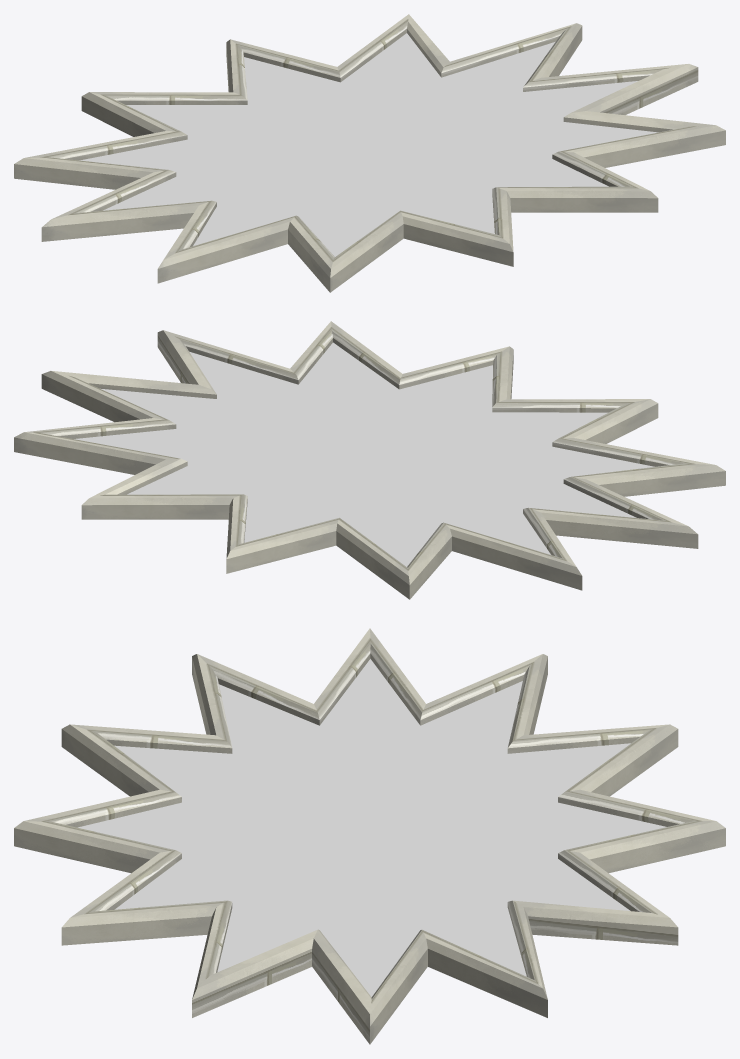
File: Billboard_B.fbx
The picture shows the model from 3 angles, top to bottom: view 1: azimuth 30°, elevation 25°; view 2: azimuth 150°, elevation 25°; view 3: azimuth 270°, elevation 25°; orthographic projection. The views are drawn at different scales.
Visible parts, largest first — view 1: Star_Sign_A; view 2: Star_Sign_A; view 3: Star_Sign_A.
Boxes of the visible parts, x1=… form: Star_Sign_A: x1=14, y1=14, x2=725, y2=292; Star_Sign_A: x1=14, y1=321, x2=725, y2=599; Star_Sign_A: x1=14, y1=628, x2=725, y2=1044.
Bounding box in the file's own units: 2200 × 64.85 × 1666.
